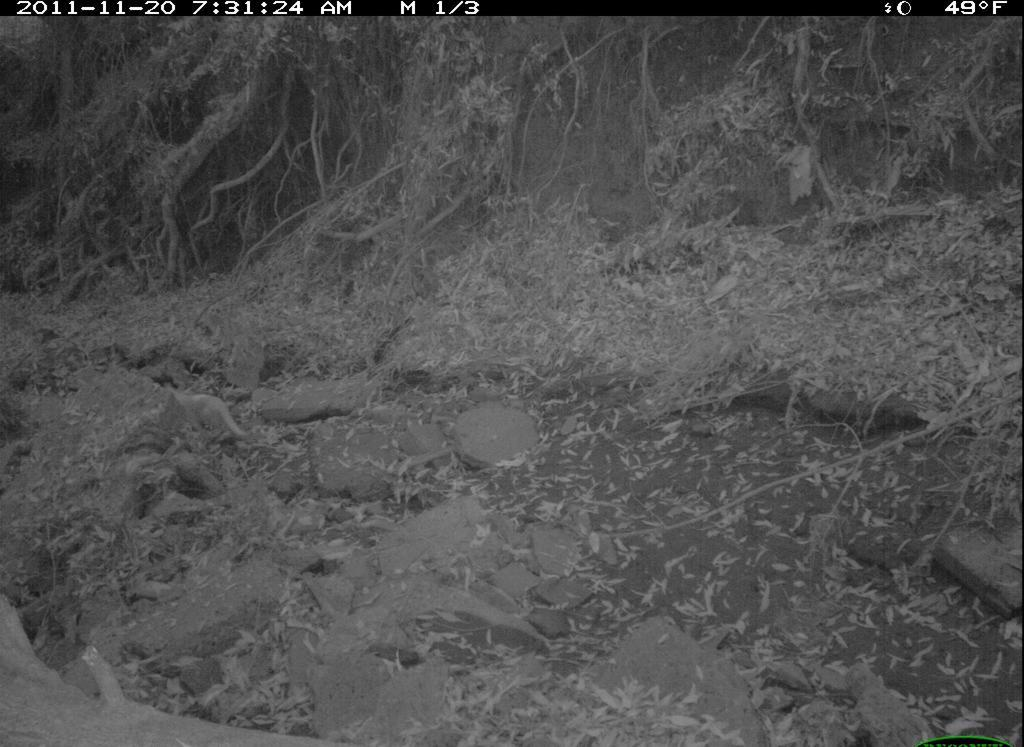cat: (157, 379, 255, 446)
